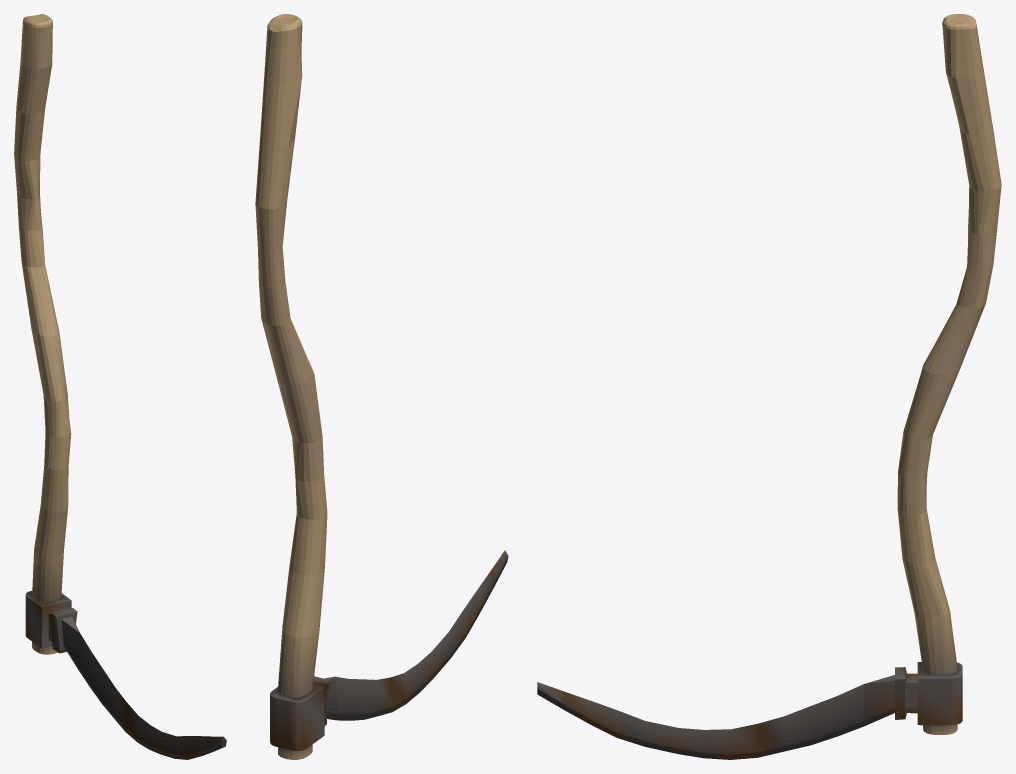
File: scythe.glb
3 renders of one model, left to right at view 1: azimuth 30°, elevation 25°; view 2: azimuth 150°, elevation 25°; view 3: azimuth 270°, elevation 25°, orthographic. The views are drawn at different scales.
Visible parts, largest first — view 1: Cube.002; view 2: Cube.002; view 3: Cube.002.
Part boxes in pixels (x1,y1,x2,y2): Cube.002: (14, 14, 226, 759); Cube.002: (255, 14, 508, 759); Cube.002: (537, 14, 1001, 759).
Bounding box in the file's own units: 0.1511 × 3.15 × 1.79.
